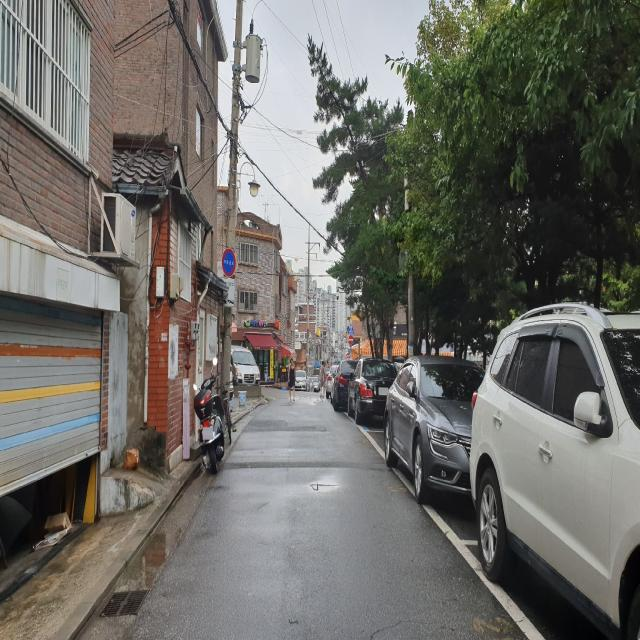car: (470, 303, 640, 640), (384, 356, 482, 506), (348, 356, 398, 426), (331, 359, 362, 411)
motorbike: (193, 356, 225, 477)
